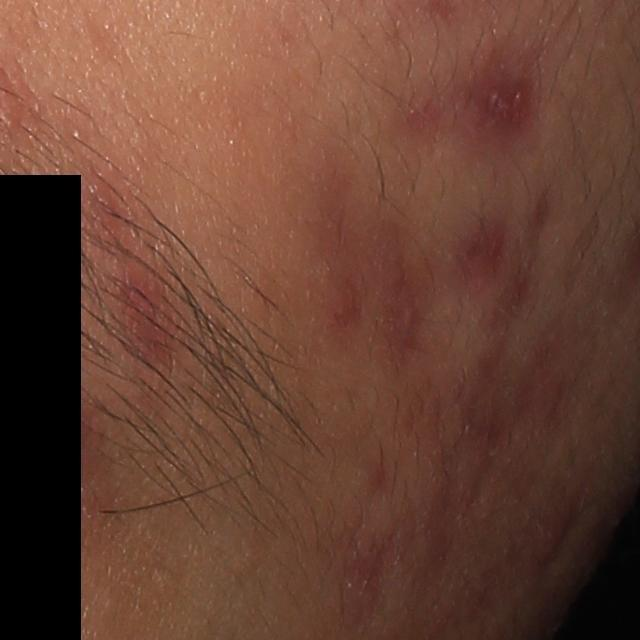papule: (525, 495, 580, 568)
